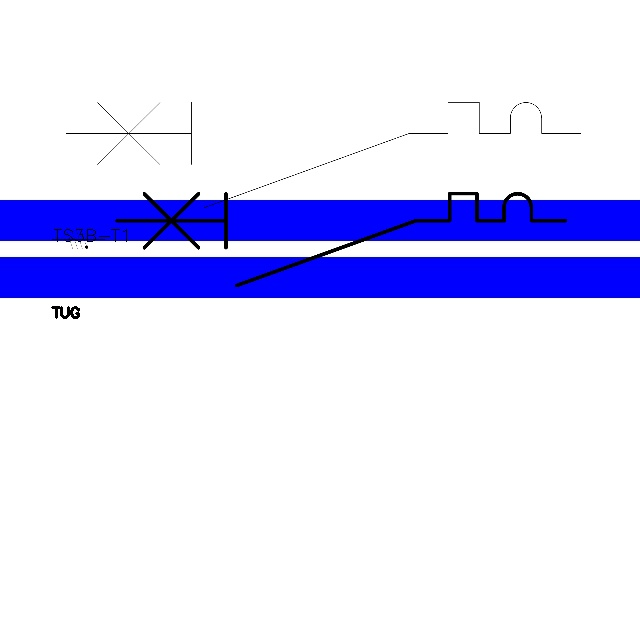interruptor_termomagnetico: (53, 89, 594, 221), (105, 182, 577, 297)
